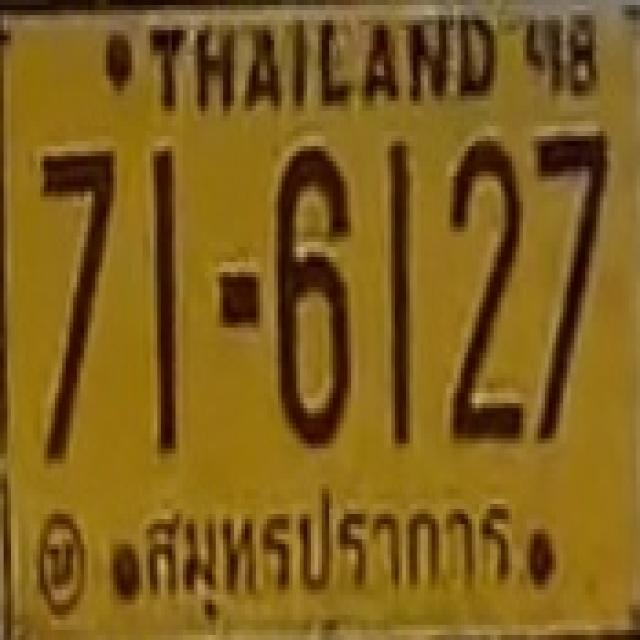1: (152, 146, 174, 408), (386, 138, 408, 396)
2: (446, 136, 523, 408), (446, 176, 519, 438)
6: (274, 141, 348, 444)
7: (534, 128, 607, 380), (41, 148, 114, 396), (41, 146, 114, 353), (534, 129, 607, 335), (41, 149, 114, 325), (534, 131, 607, 302)
SPK: (125, 474, 528, 636)
